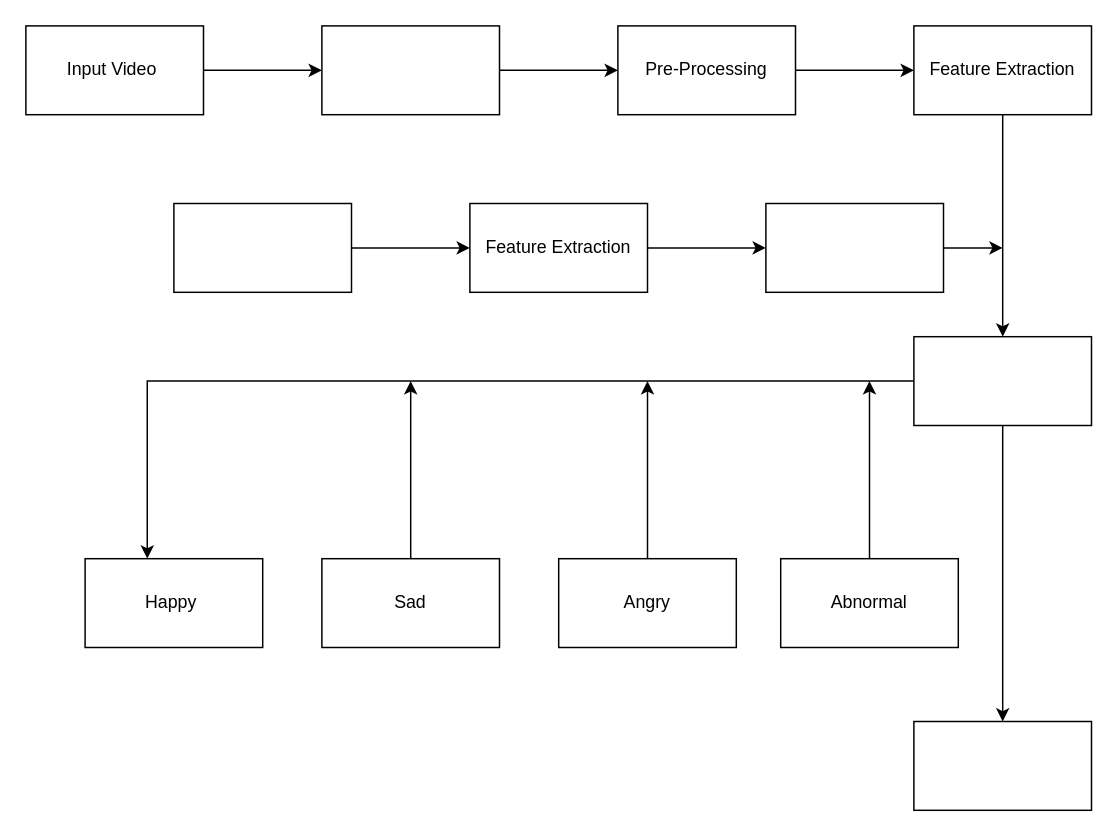
The diagram is 1117 pixels wide and 836 high, and some of its shapes have lost their labels. The centre of each missing label's shape, as x and y in pixels:
"CNN Classifier" belongs at point (1002, 380).
"CNN Training" belongs at point (854, 247).
"Database" belongs at point (262, 247).
"Frame Seperation" belongs at point (410, 69).
